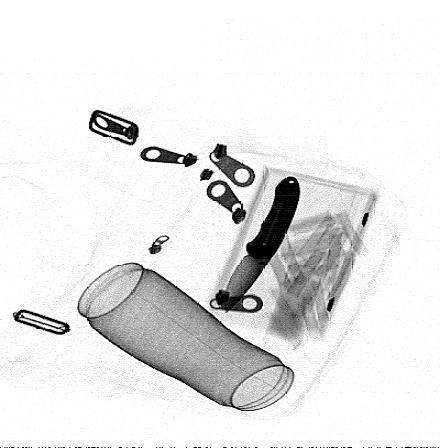Knife: (223, 175, 301, 313)
